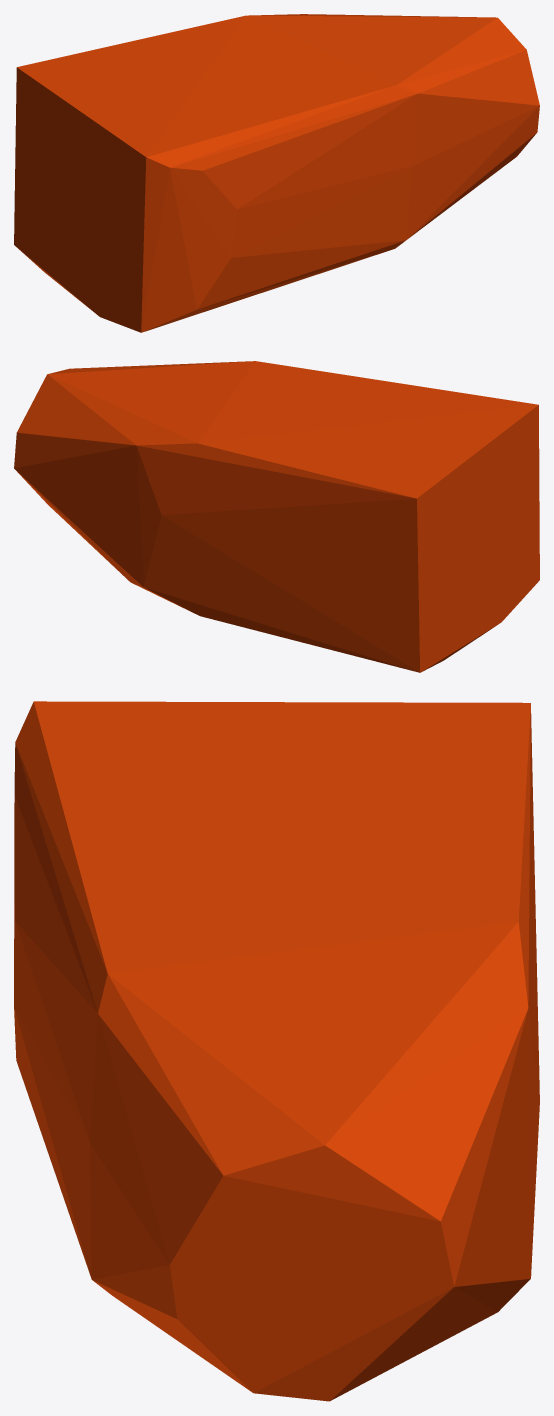
File: tarsus_convex_piece_001.obj
The picture shows the model from 3 angles, top to bottom: view 1: azimuth 30°, elevation 25°; view 2: azimuth 150°, elevation 25°; view 3: azimuth 270°, elevation 25°; orthographic projection. The views are drawn at different scales.
Bounding box in the file's own units: 0.1383 × 0.0576 × 0.0739.
